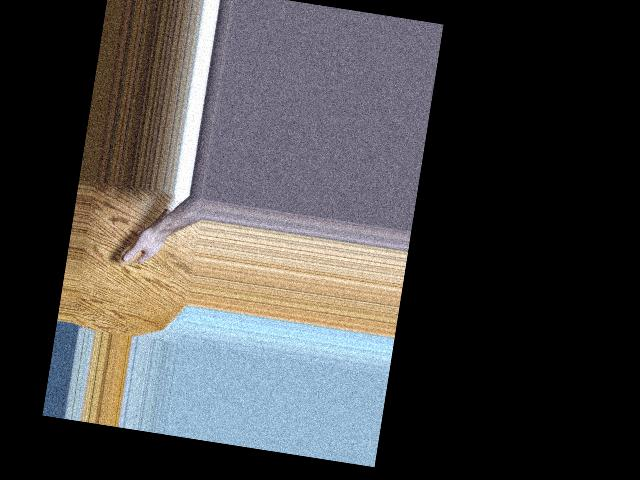sweet_potato: (118, 200, 173, 274)
